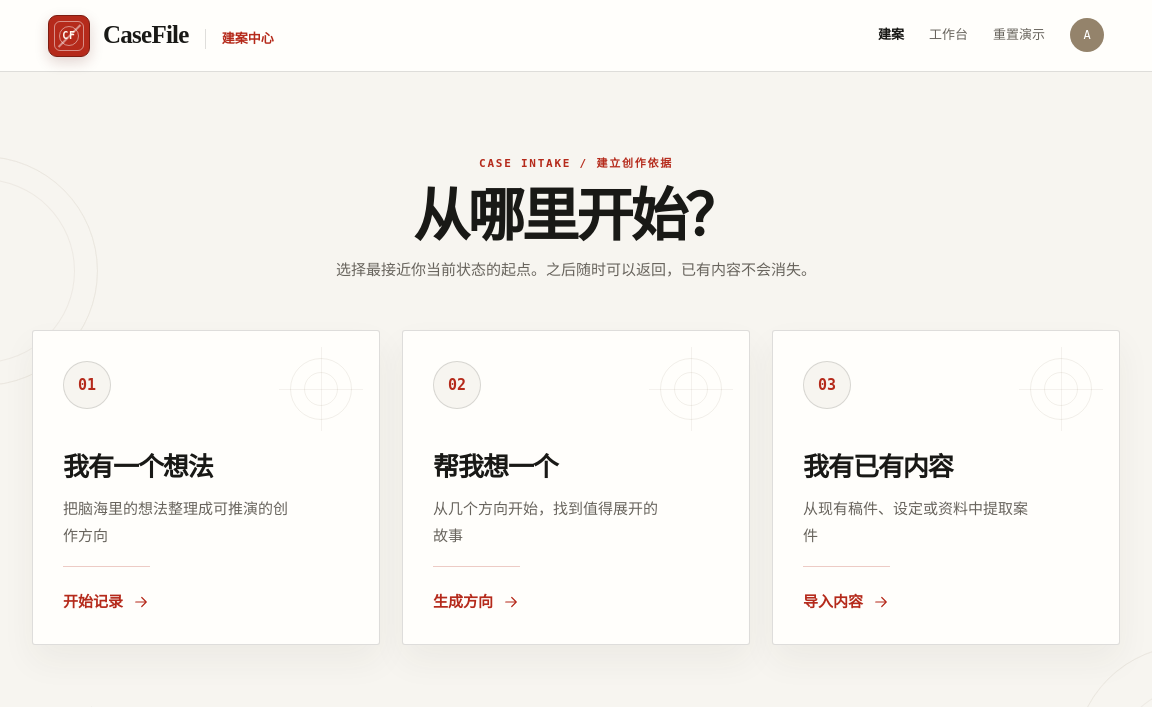
Test: visual intake demo › keeps path A progress visible with a separate polish control and bottom-right primary action
Click the button "01 我有一个想法 把脑海里的想法整理成可推演的创作方向 开始记录". click: coordinates (87, 385)
box: [32,330,380,645]
(page scrolled)
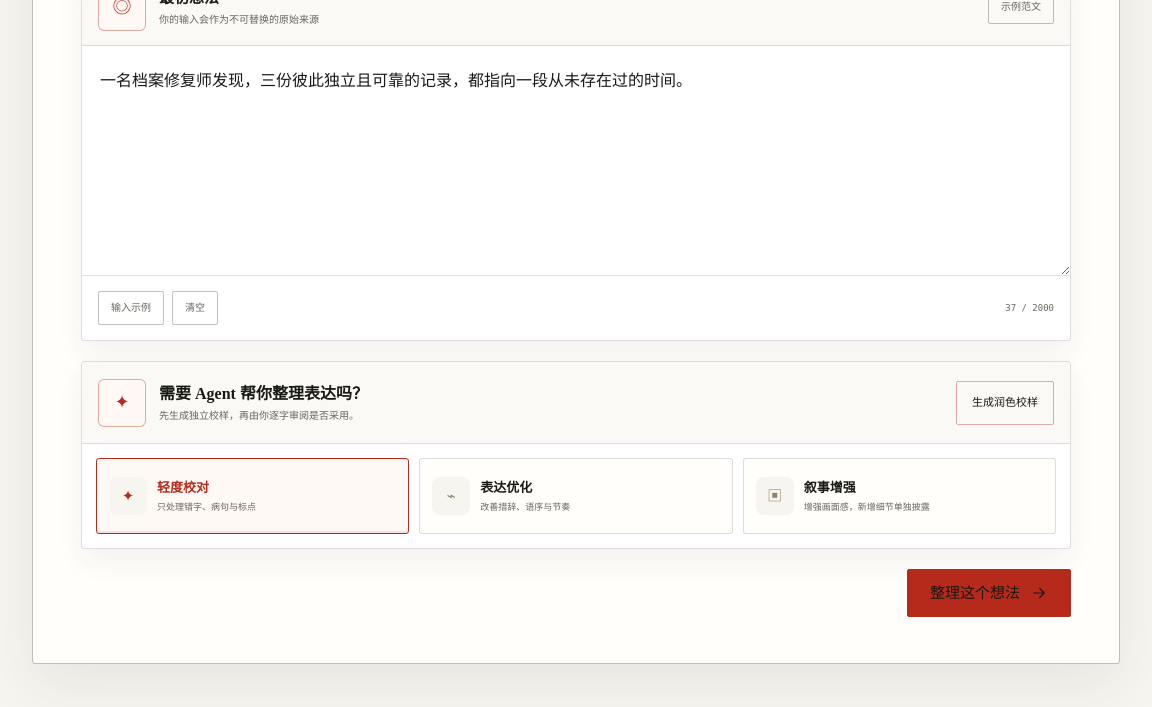
Check: the radio button labelled "✦ 轻度校对 只处理错字、病句与标点" is checked, box [96,458,409,534]
Check: the button "生成润色校样" is enabled, box [956,381,1054,425]
Check: the button "整理这个想法" is enabled, box [907,569,1071,617]
